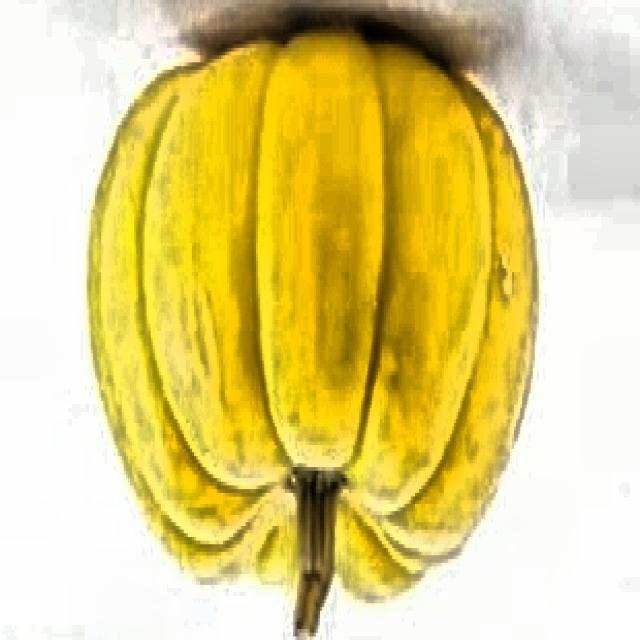Vegetable: (62, 0, 535, 640)
